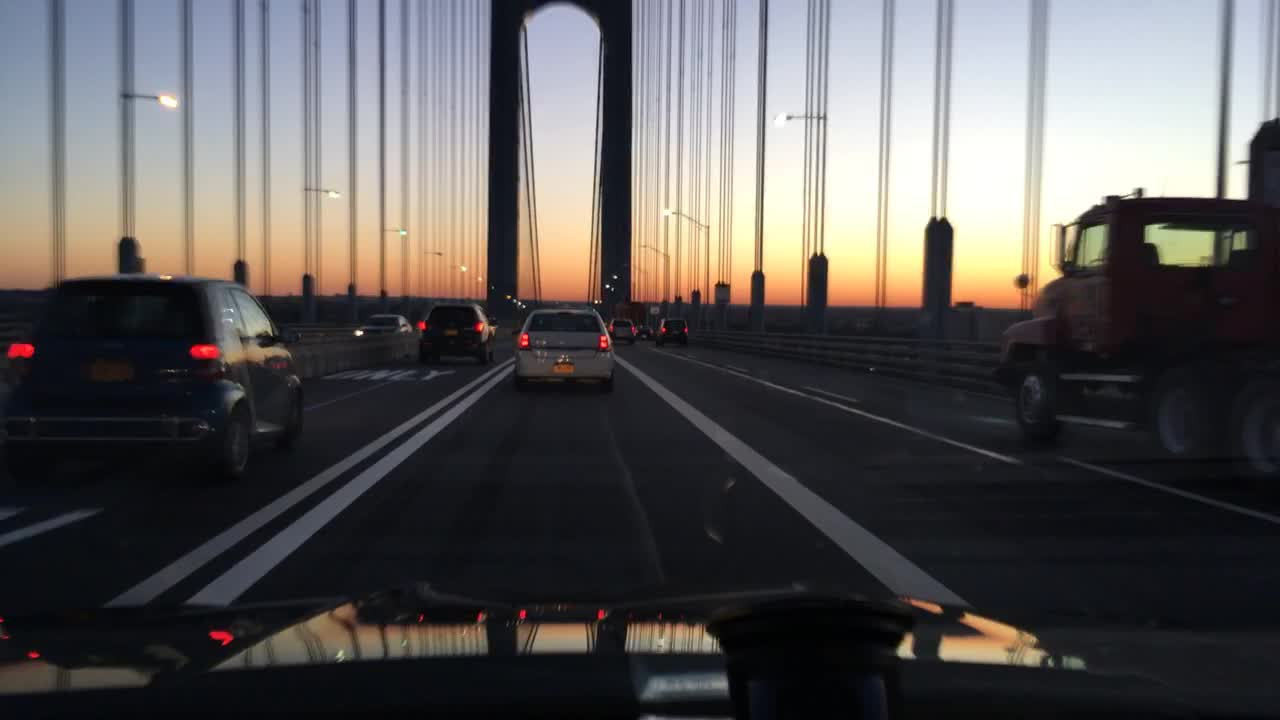car: (0, 274, 305, 480), (510, 306, 613, 393), (413, 301, 495, 364), (350, 310, 411, 341), (657, 316, 692, 348), (607, 316, 638, 344), (638, 323, 655, 340)
truck: (989, 117, 1279, 486)
